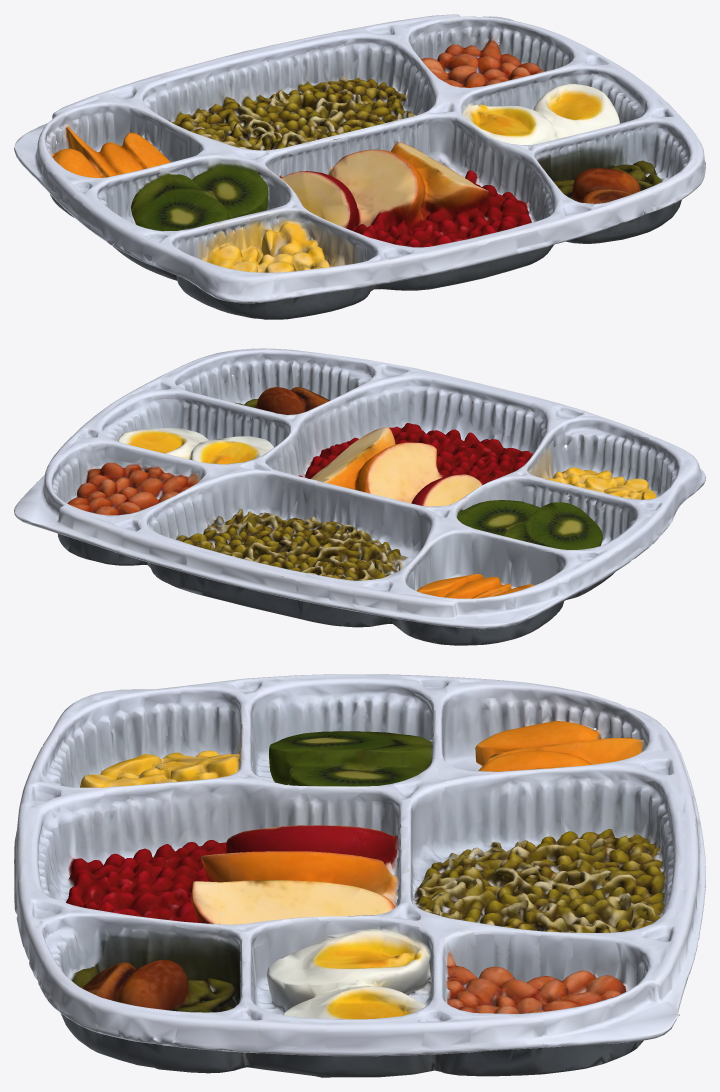
The model's file is Premium.glb.
3 views of the same model, one above another, from view 1: azimuth 30°, elevation 25°; view 2: azimuth 150°, elevation 25°; view 3: azimuth 270°, elevation 25° (orthographic). The views are drawn at different scales.
Visible parts, largest first — view 1: mesh_node; view 2: mesh_node; view 3: mesh_node.
Part boxes in pixels (left/top/right/bottom): mesh_node: left=14, top=14, right=705, bottom=319; mesh_node: left=14, top=348, right=705, bottom=645; mesh_node: left=14, top=674, right=705, bottom=1077.
Bounding box in the file's own units: 1.9 × 0.1796 × 1.55.
Materials: 1 (1 with a texture image).
